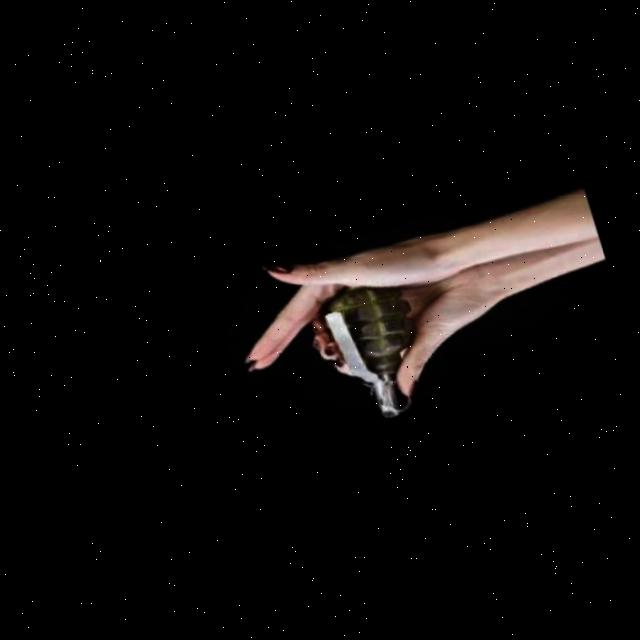grenade: (293, 267, 447, 436)
